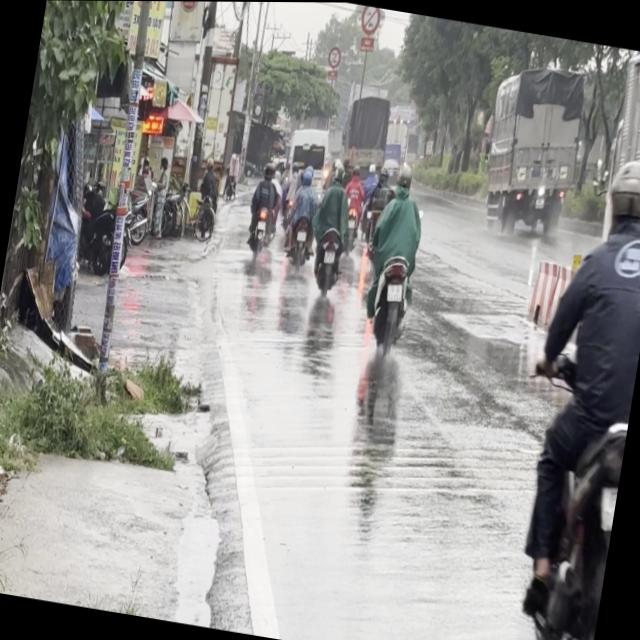helmet: (601, 154, 640, 242), (396, 160, 416, 192)
licenseplate: (491, 144, 640, 640), (354, 157, 436, 351)
nohelmet: (599, 484, 618, 528), (386, 283, 404, 303)
